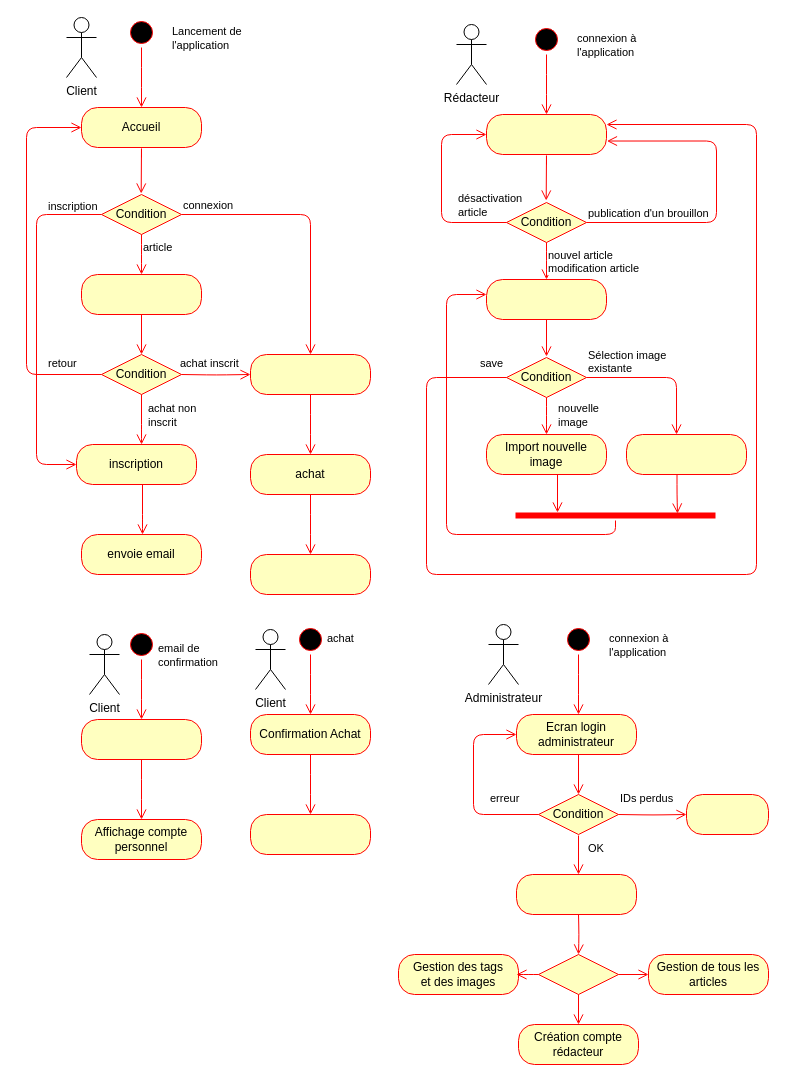
This 786x1082 diagram has some shape labels left out. The shapes that lost their labels are listed below. From the top down, each one's centre as x and y in pixels, then its label:
At (x=546, y=134): "Liste d'Articles avec brouillons".
At (x=141, y=294): "Affichage article partiel".
At (x=546, y=299): "Rédaction article".
At (x=310, y=374): "Saisie id/password".
At (x=686, y=454): "Choix image".
At (x=310, y=574): "Attente confirmation achat".
At (x=141, y=739): "Confirmation email".
At (x=310, y=834): "Affichage Article complet acheté".
At (x=727, y=814): "Envoi email récupération".
At (x=576, y=894): "Menu spécial administrateur".
At (x=578, y=974): "Choix".
